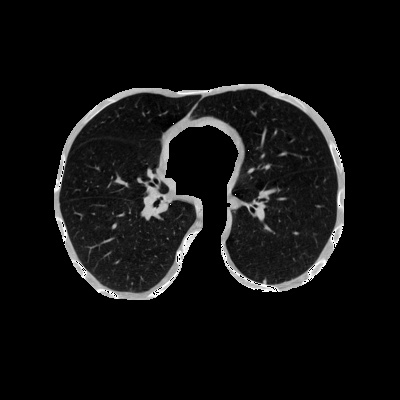PN: (262, 279, 266, 283)
